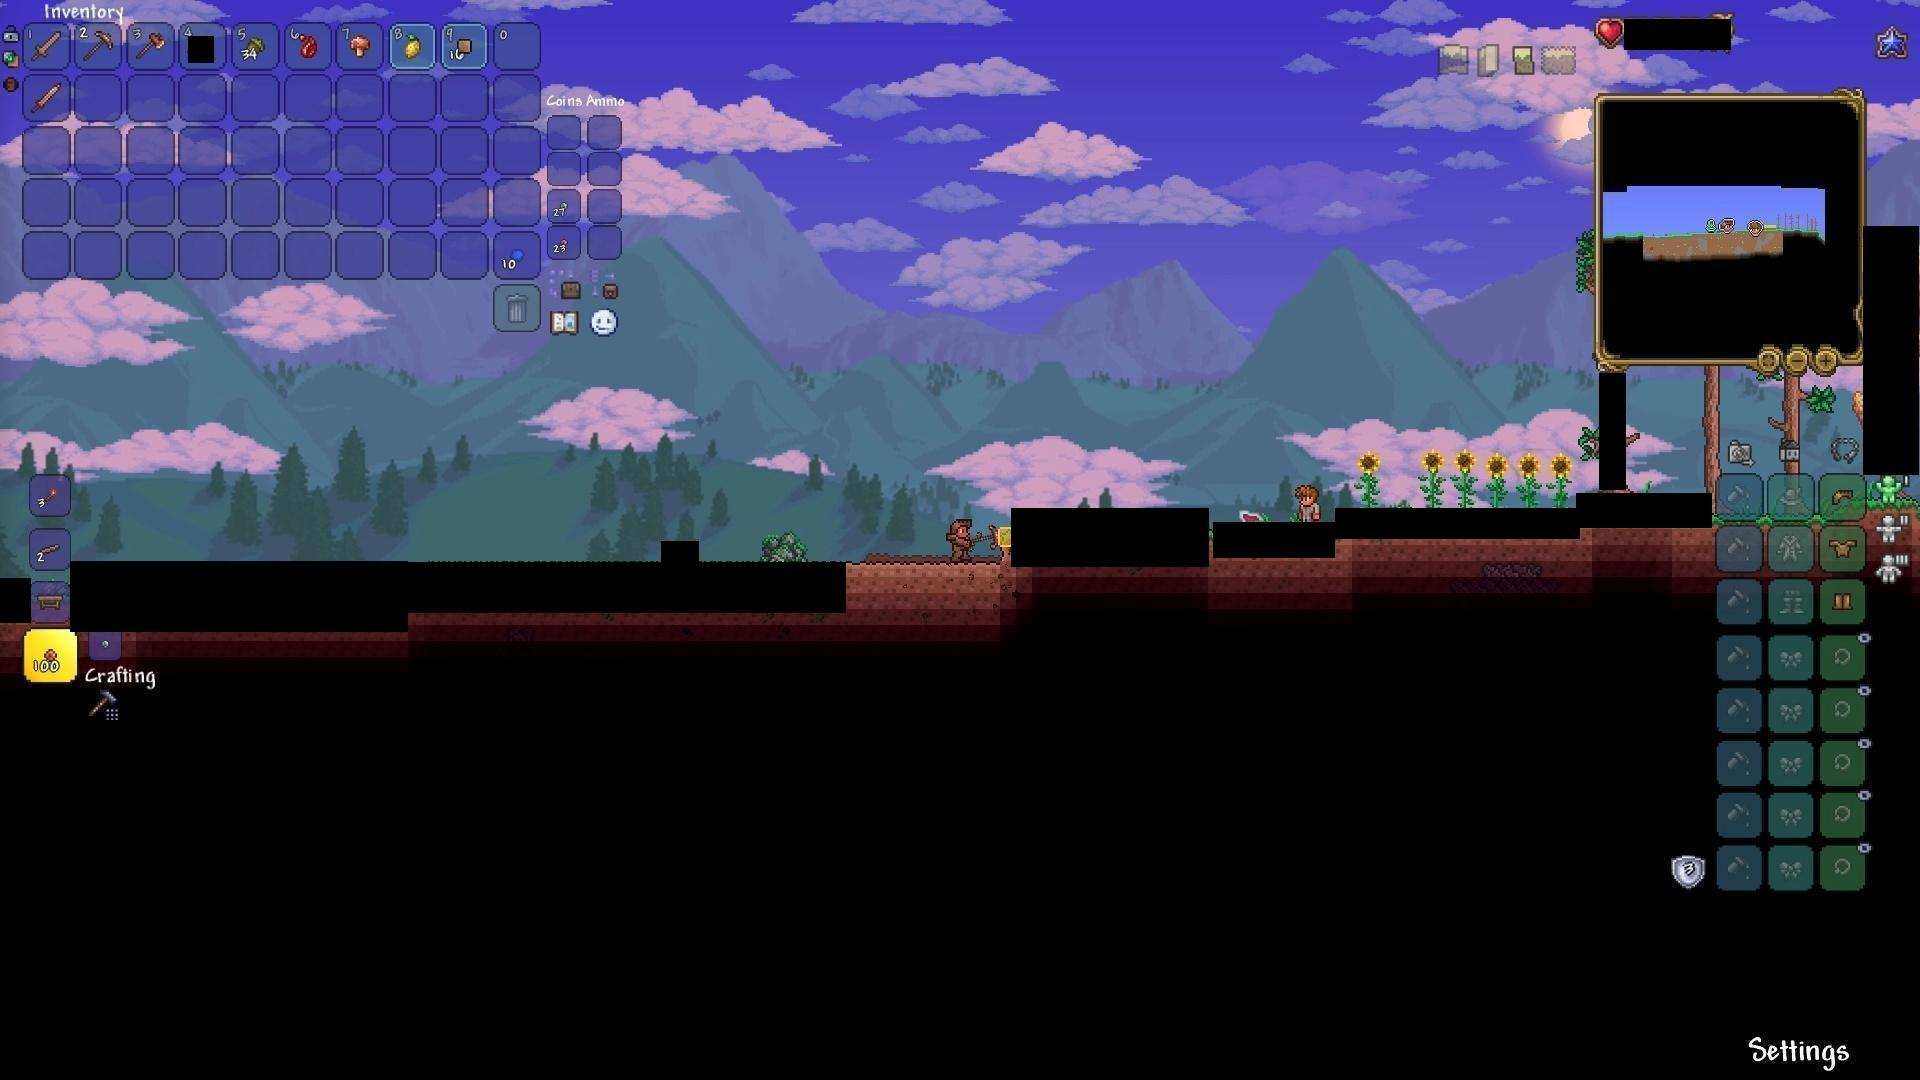breastplate: (1830, 537, 1859, 558)
heart: (1597, 16, 1625, 46)
helmet: (1829, 483, 1857, 506)
legs: (1830, 588, 1855, 615)
workbench: (32, 589, 69, 616)
